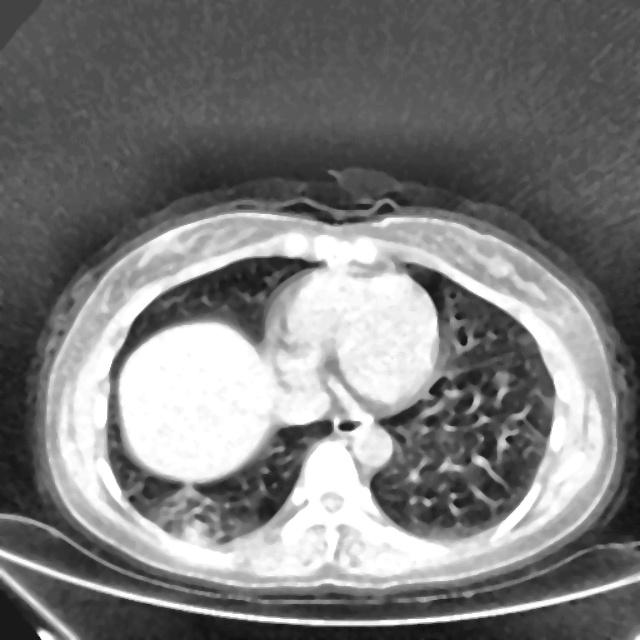covid: (32, 182, 632, 599)
